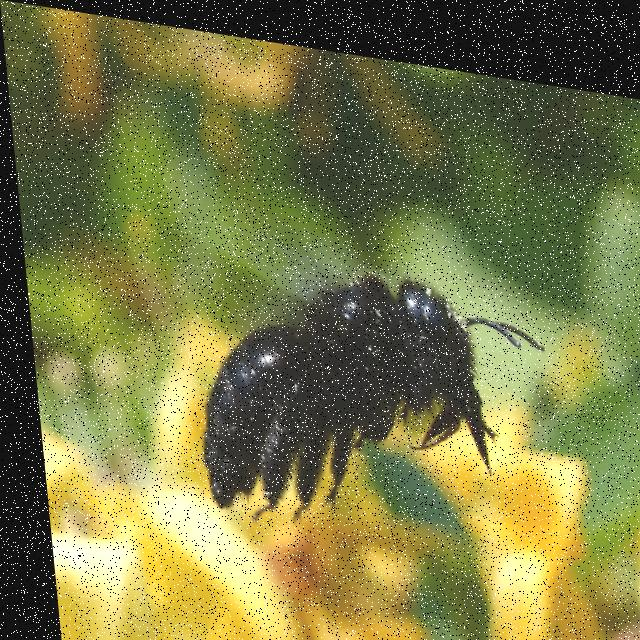Xylocopa: (145, 205, 573, 576)
